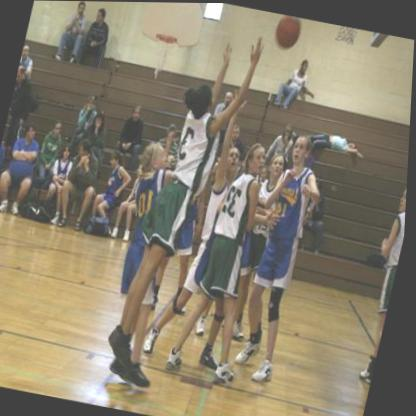basketball: (267, 12, 307, 52)
